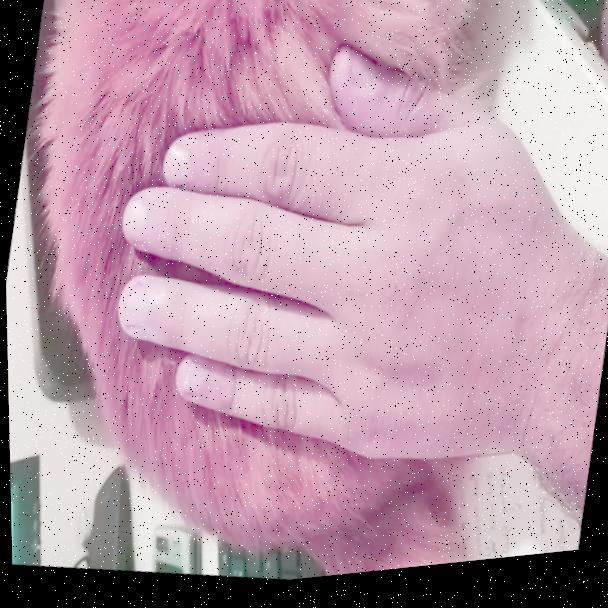five: (45, 0, 608, 599)
